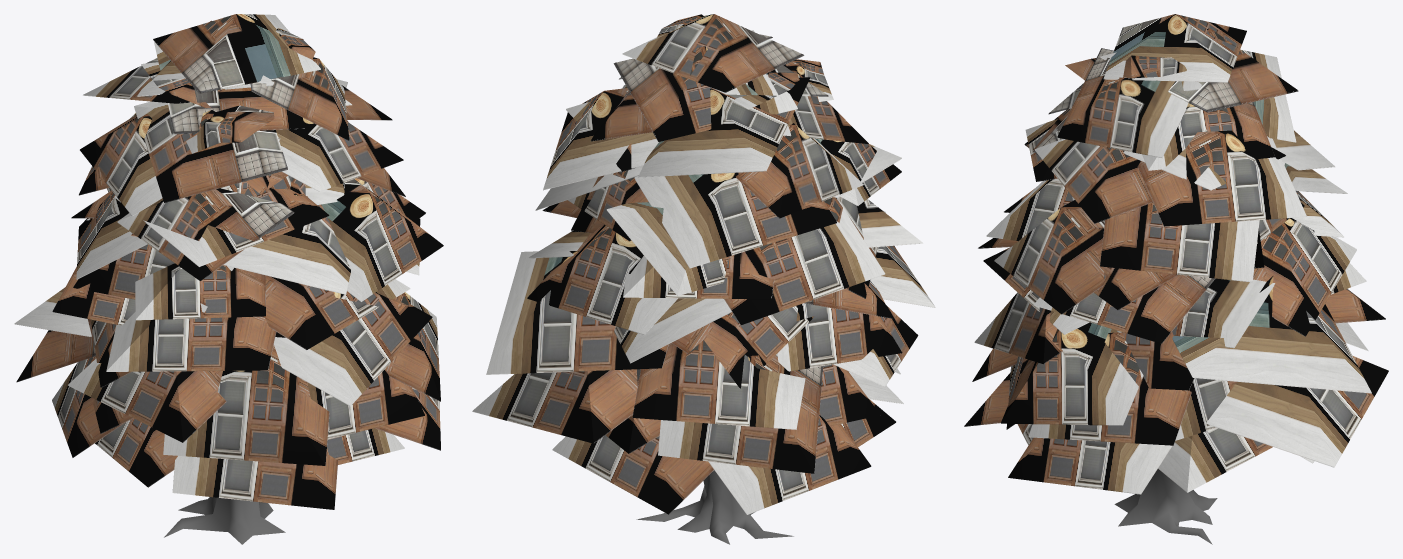
File: shu07.FBX
3 renders of one model, left to right at view 1: azimuth 30°, elevation 25°; view 2: azimuth 150°, elevation 25°; view 3: azimuth 270°, elevation 25°, orthographic.
Visible parts, largest first — view 1: s4studio_mesh_1, s4studio_mesh_2; view 2: s4studio_mesh_1, s4studio_mesh_2; view 3: s4studio_mesh_1, s4studio_mesh_2.
Boxes of the visible parts, x1=… form: s4studio_mesh_1: x1=14, y1=14, x2=443, y2=509; s4studio_mesh_2: x1=164, y1=497, x2=285, y2=544; s4studio_mesh_1: x1=472, y1=14, x2=935, y2=514; s4studio_mesh_2: x1=636, y1=470, x2=793, y2=544; s4studio_mesh_1: x1=964, y1=14, x2=1388, y2=494; s4studio_mesh_2: x1=1114, y1=469, x2=1217, y2=544.
Bounding box in the file's own units: 10.08 × 13.24 × 10.16.
